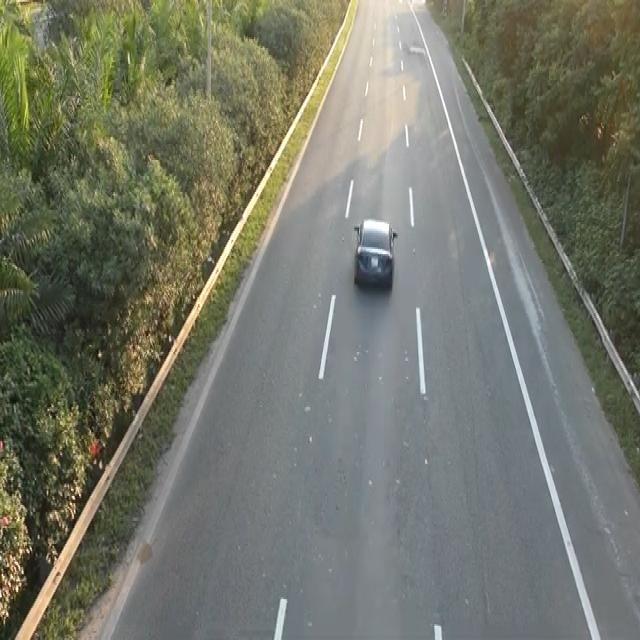bus: (351, 214, 398, 292)
